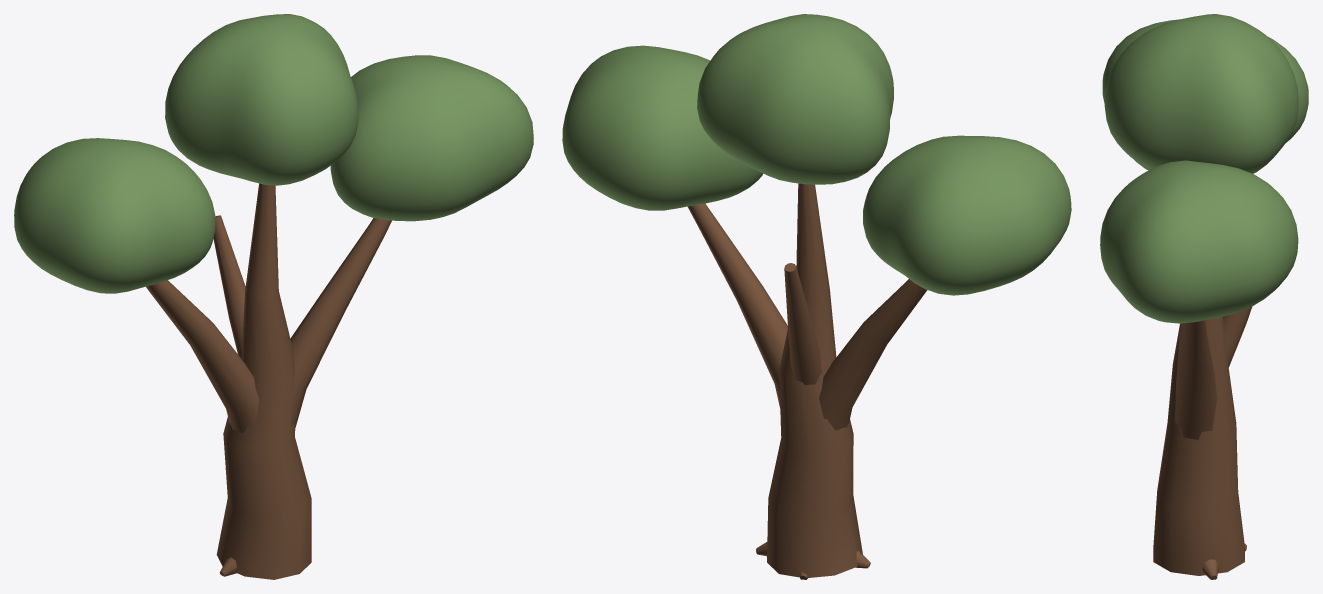
File: deciduous_tree.glb
3 renders of one model, left to right at view 1: azimuth 30°, elevation 25°; view 2: azimuth 150°, elevation 25°; view 3: azimuth 270°, elevation 25°, orthographic.
Parts seen in each view (by area): view 1: DeciduousTree1; view 2: DeciduousTree1; view 3: DeciduousTree1.
Part boxes in pixels (<box>): DeciduousTree1: <box>14,14,533,579</box>; DeciduousTree1: <box>562,14,1071,579</box>; DeciduousTree1: <box>1100,14,1308,579</box>.
Size of the model in its own units: 9.53 by 10 by 3.53.
